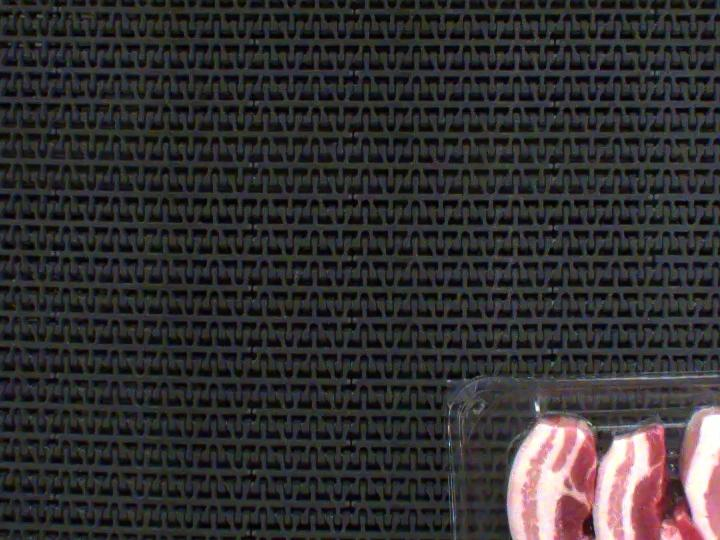packaging-error: (501, 387, 571, 433)
